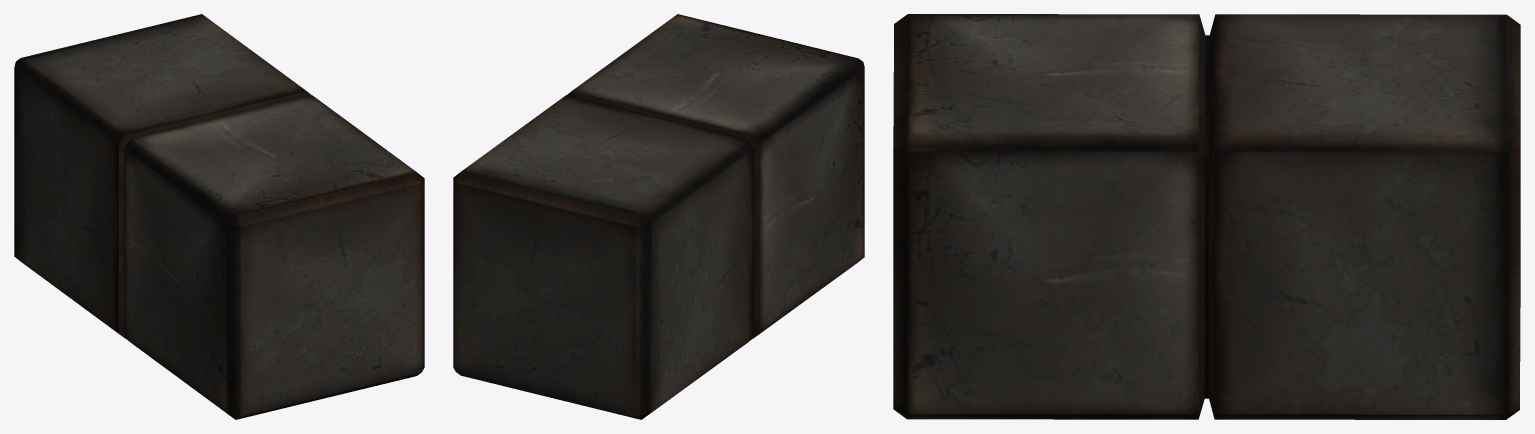
File: Metal.fbx
The picture shows the model from 3 angles, left to right: view 1: azimuth 30°, elevation 25°; view 2: azimuth 150°, elevation 25°; view 3: azimuth 270°, elevation 25°; orthographic projection. The views are drawn at different scales.
Visible parts, largest first — view 1: wavefront obj; view 2: wavefront obj; view 3: wavefront obj.
Part boxes in pixels (x1,y1,x2,y2): wavefront obj: (14, 14, 424, 419); wavefront obj: (453, 14, 864, 419); wavefront obj: (893, 14, 1520, 419).
Size of the model in its own units: 125 by 124 by 249.
